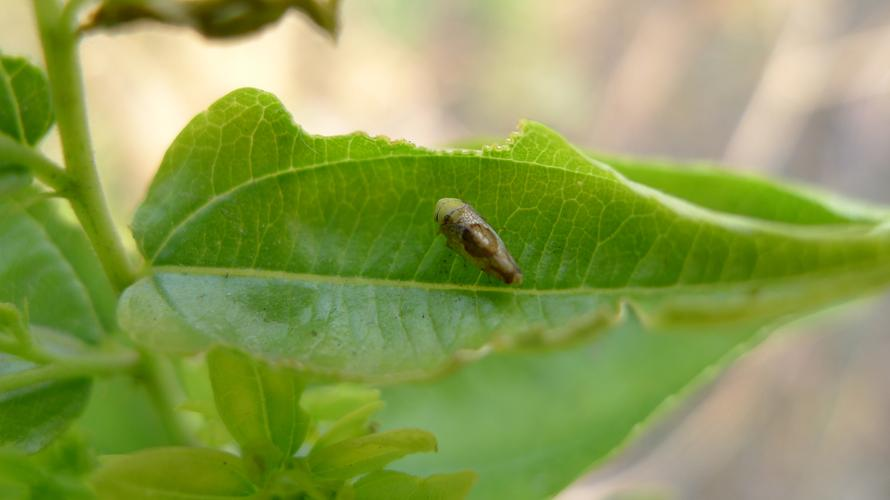Cicadellidae: (433, 196, 523, 286)
